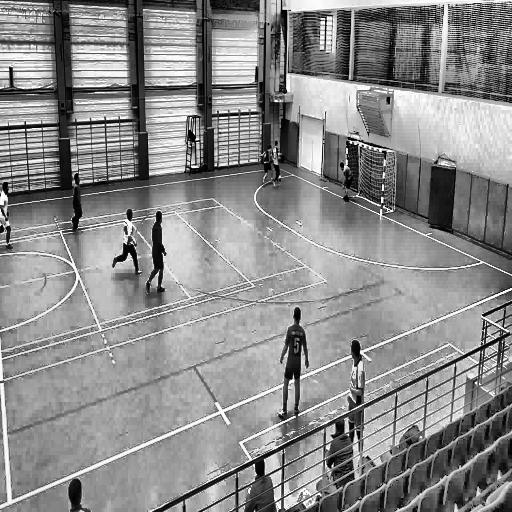ball: (278, 174, 283, 183)
player: (277, 306, 309, 422), (110, 204, 143, 278), (346, 338, 366, 456), (145, 209, 167, 299), (0, 180, 16, 254), (70, 169, 84, 234), (338, 157, 354, 208), (258, 144, 274, 188), (270, 136, 282, 189)
